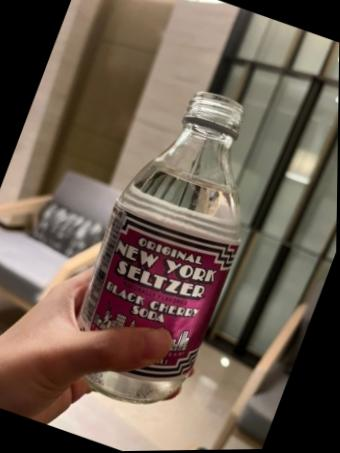glass: (80, 91, 243, 401), (211, 71, 337, 356)
